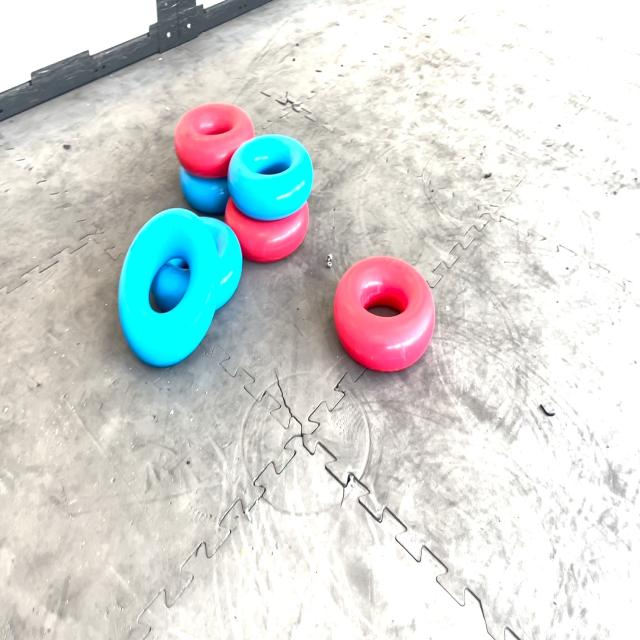Blue-Ring: (119, 209, 218, 367), (228, 136, 312, 220), (200, 218, 242, 308), (180, 167, 230, 213)
Red-Ring: (334, 256, 435, 371), (175, 102, 255, 178), (225, 198, 309, 262)
